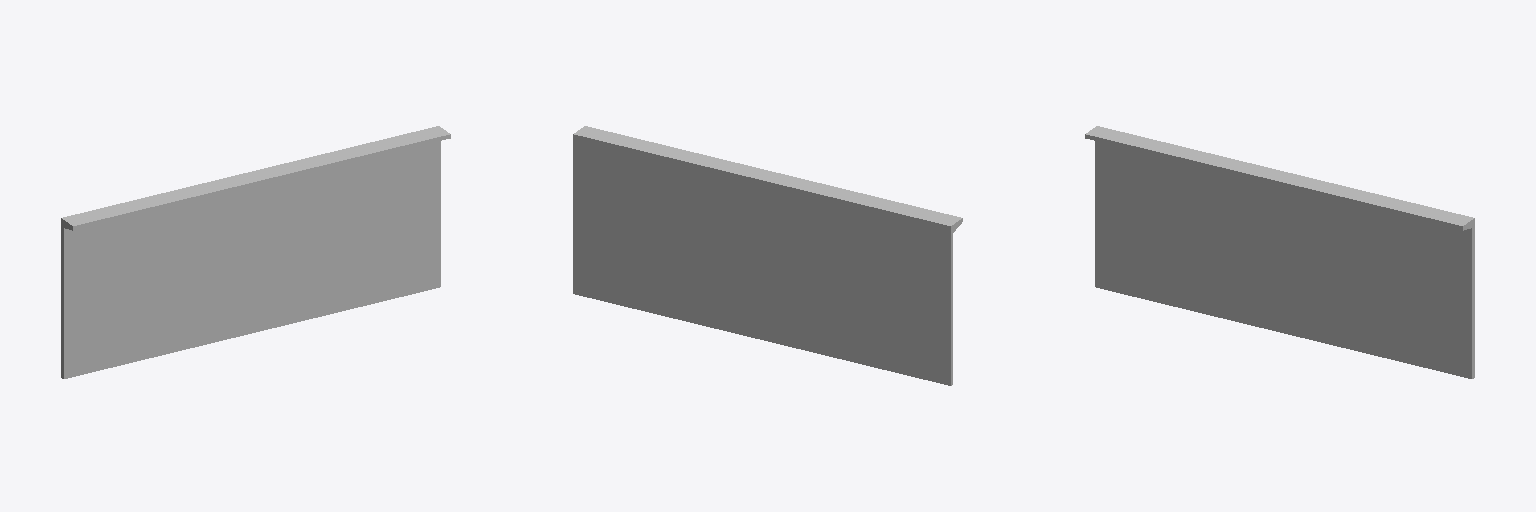
Rendered from original-3.obj.
3 renders of one model, left to right at view 1: azimuth 30°, elevation 25°; view 2: azimuth 150°, elevation 25°; view 3: azimuth 330°, elevation 25°, orthographic.
Parts seen in each view (by area): view 1: TT1/TT/mesh3/mesh3-geometry#mesh3-geometry; view 2: TT1/TT/mesh3/mesh3-geometry#mesh3-geometry; view 3: TT1/TT/mesh3/mesh3-geometry#mesh3-geometry.
Part boxes in pixels (x1,y1,x2,y2): TT1/TT/mesh3/mesh3-geometry#mesh3-geometry: (61, 126, 450, 378); TT1/TT/mesh3/mesh3-geometry#mesh3-geometry: (573, 126, 962, 385); TT1/TT/mesh3/mesh3-geometry#mesh3-geometry: (1085, 126, 1474, 378).
Bounding box in the file's own units: 0.7339 × 0.2967 × 0.039.